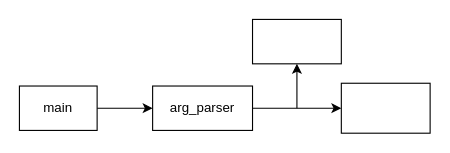
Some shapes in this 450 by 153 pixel diagram are drawn without their labels. Here are the shapes that lost their labels. From the top down, the centre of each, then its label:
pixel 296 41: connection
pixel 385 107: sniffer
